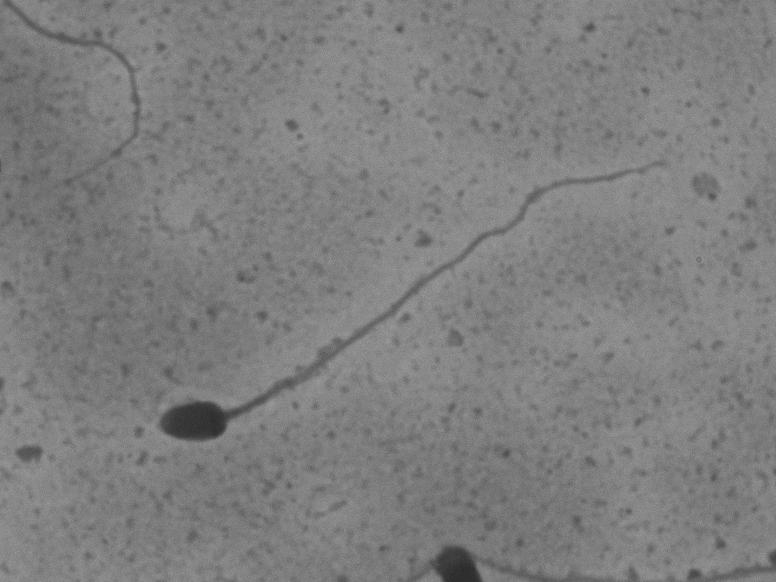Abnormal: (138, 120, 671, 470)
